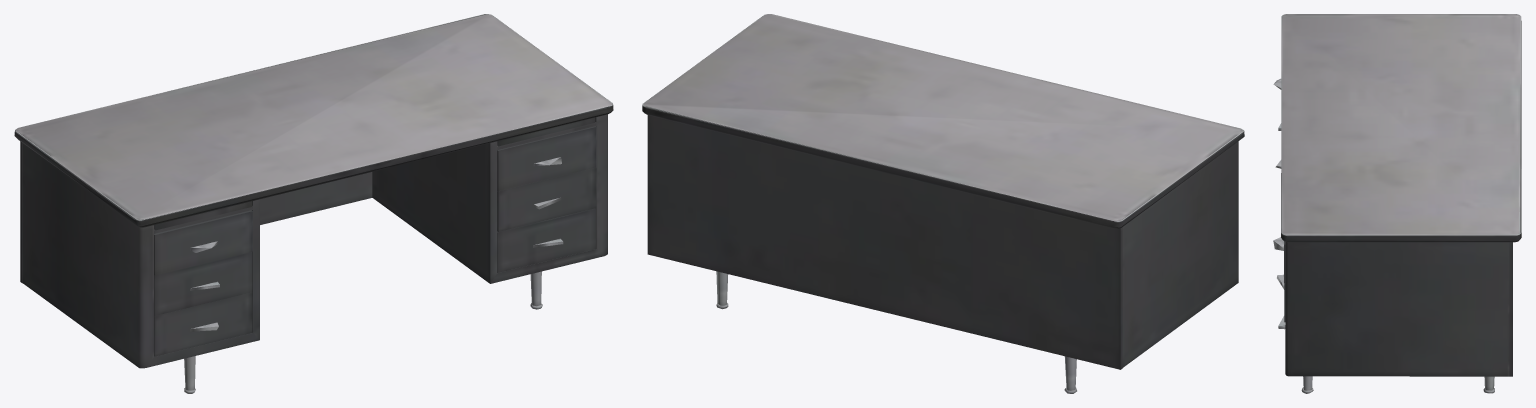
Rendered from desk.glb.
The picture shows the model from 3 angles, left to right: view 1: azimuth 30°, elevation 25°; view 2: azimuth 150°, elevation 25°; view 3: azimuth 270°, elevation 25°; orthographic projection. The views are drawn at different scales.
Visible parts, largest first — view 1: metal_office_desk, metal_office_desk_drawer_04, metal_office_desk_drawer_01, metal_office_desk_drawer_02, metal_office_desk_drawer_03, metal_office_desk_drawer_06, metal_office_desk_drawer_05, metal_office_desk_tray_01, metal_office_desk_tray_02; view 2: metal_office_desk; view 3: metal_office_desk.
Boxes of the visible parts, x1,y1,x2,y2 form: metal_office_desk: [14, 14, 613, 393]; metal_office_desk_drawer_04: [154, 210, 252, 275]; metal_office_desk_drawer_01: [497, 126, 596, 191]; metal_office_desk_drawer_02: [497, 167, 596, 231]; metal_office_desk_drawer_03: [497, 208, 595, 272]; metal_office_desk_drawer_06: [154, 292, 252, 356]; metal_office_desk_drawer_05: [154, 252, 252, 315]; metal_office_desk_tray_01: [154, 201, 252, 230]; metal_office_desk_tray_02: [497, 117, 595, 146]; metal_office_desk: [642, 14, 1244, 393]; metal_office_desk: [1281, 14, 1521, 393].
Size of the model in its own units: 2 by 0.7867 by 0.9463.
Materials: 1 (1 with a texture image).
